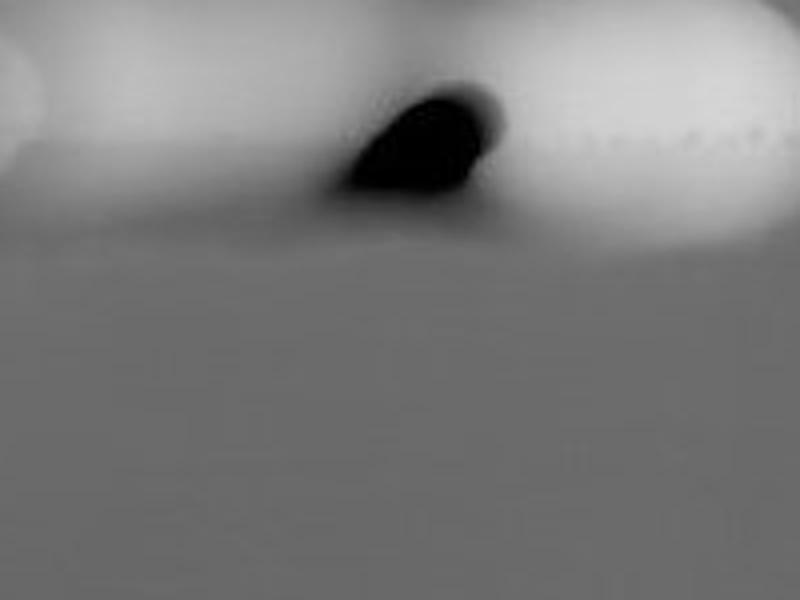defect: (347, 87, 488, 203)
